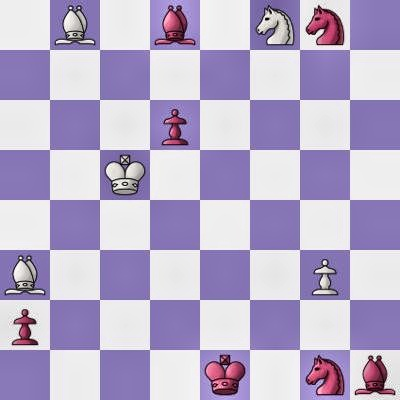black-bishop: (150, 0, 200, 50), (350, 350, 400, 400)
black-king: (200, 350, 250, 400)
black-knight: (300, 0, 350, 50), (300, 350, 350, 400)
black-pawn: (150, 100, 200, 150), (0, 300, 50, 350)
white-bishop: (50, 0, 100, 50), (0, 250, 50, 300)
white-king: (100, 150, 150, 200)
white-knight: (250, 0, 300, 50)
white-pawn: (300, 250, 350, 300)
